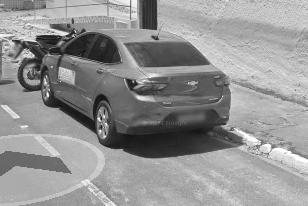car: (38, 22, 236, 149)
